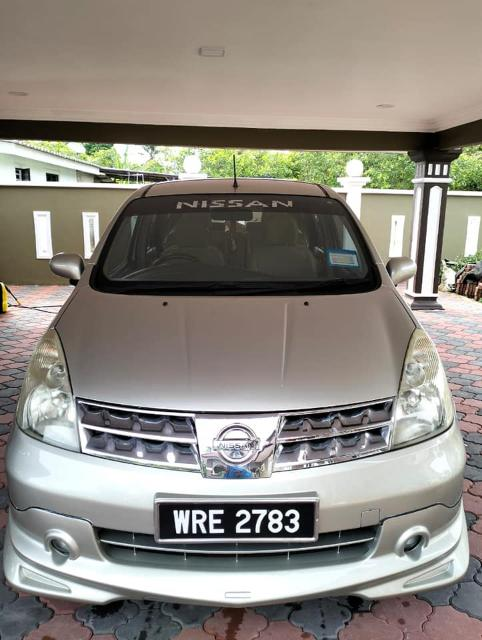License_Plate: (160, 502, 312, 539)
car: (8, 175, 476, 606)
